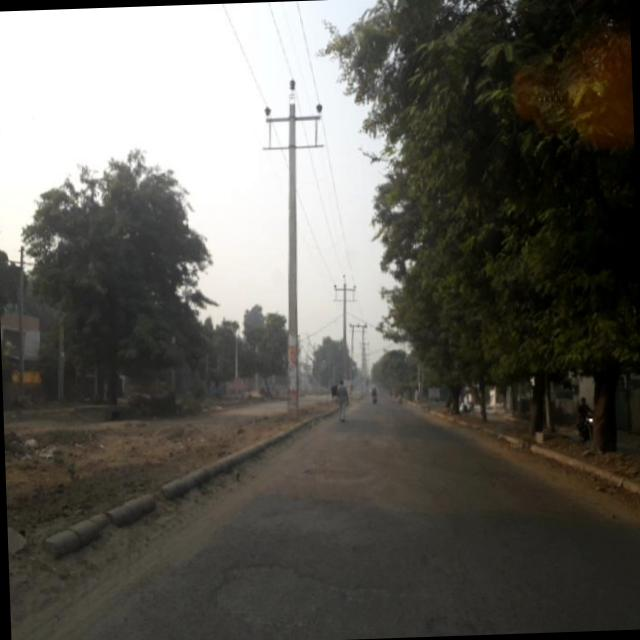pothole: (201, 544, 456, 640)
